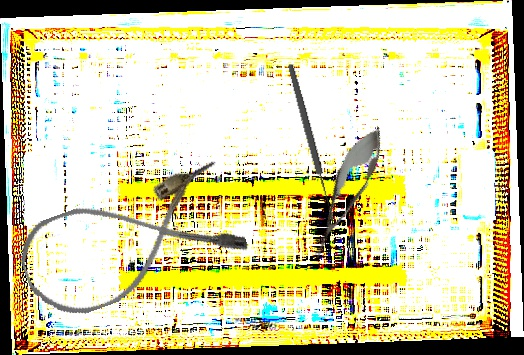Cannula: (10, 157, 251, 329)
Micro Scissor: (300, 119, 394, 265)
Surgical Spoon: (285, 63, 337, 222)
